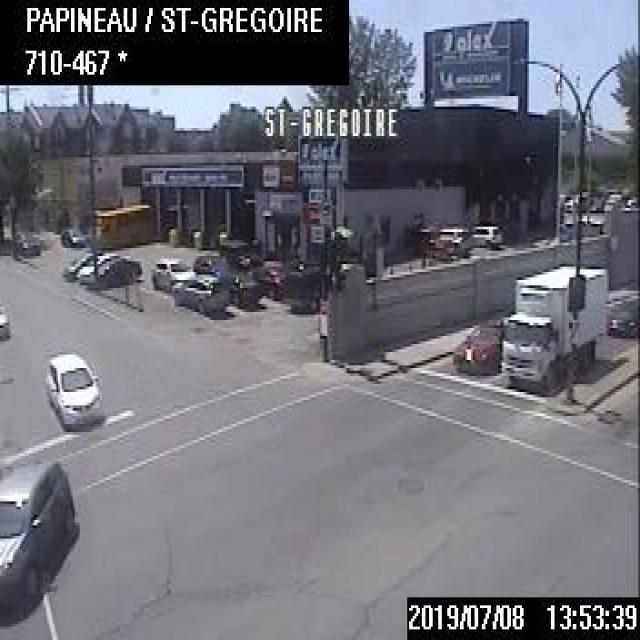vehicle: (498, 259, 608, 392), (0, 459, 75, 621), (40, 349, 102, 427), (173, 269, 231, 318), (452, 316, 501, 373), (88, 253, 140, 287), (220, 270, 261, 308), (252, 258, 289, 299), (607, 290, 638, 337), (76, 252, 115, 281), (148, 258, 184, 289), (61, 250, 93, 280), (190, 251, 228, 274), (470, 222, 502, 246), (437, 225, 467, 247), (59, 227, 85, 246), (0, 306, 7, 338)
